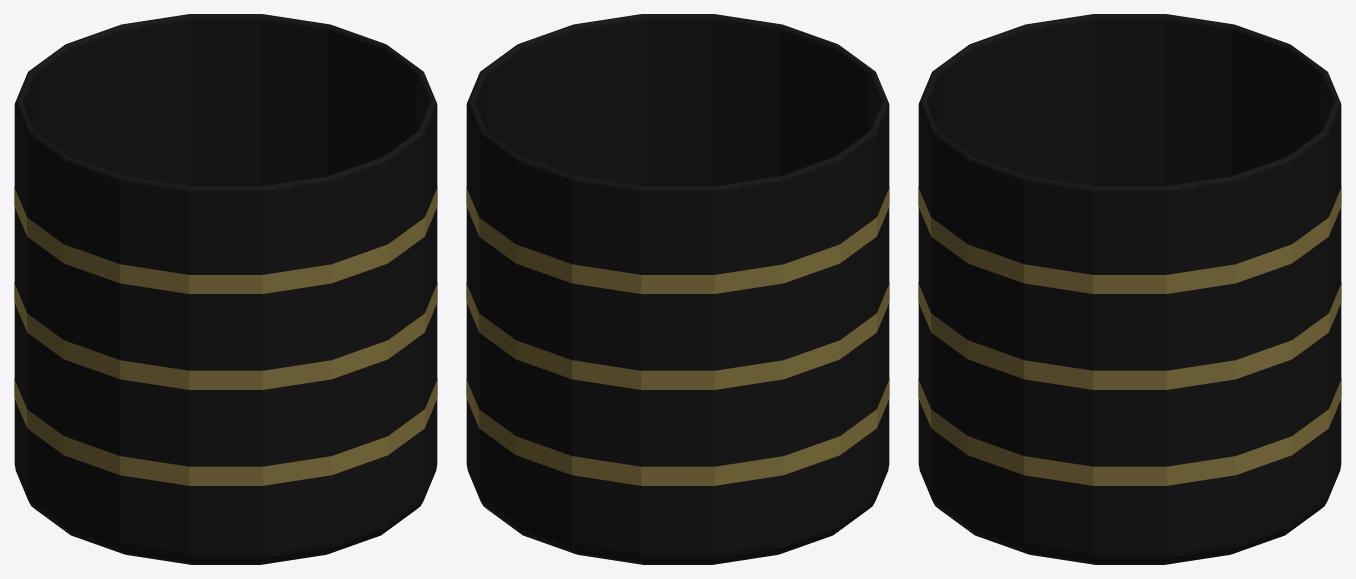
The model's file is Penholder.fbx.
The picture shows the model from 3 angles, left to right: view 1: azimuth 30°, elevation 25°; view 2: azimuth 150°, elevation 25°; view 3: azimuth 270°, elevation 25°; orthographic projection.
Parts seen in each view (by area): view 1: Penholder; view 2: Penholder; view 3: Penholder.
Part boxes in pixels (x1,y1,x2,y2): Penholder: [14, 14, 437, 564]; Penholder: [466, 14, 889, 564]; Penholder: [918, 14, 1341, 564].
Size of the model in its own units: 6.98 by 7.09 by 7.09.
